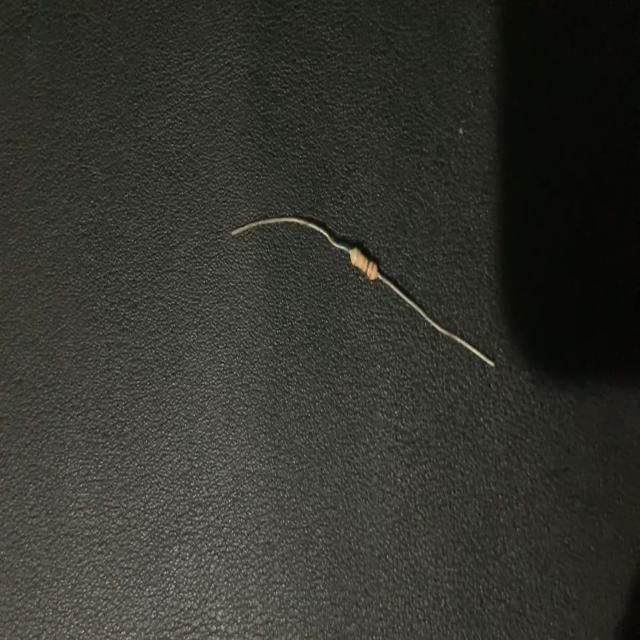resistor: (222, 206, 498, 378)
